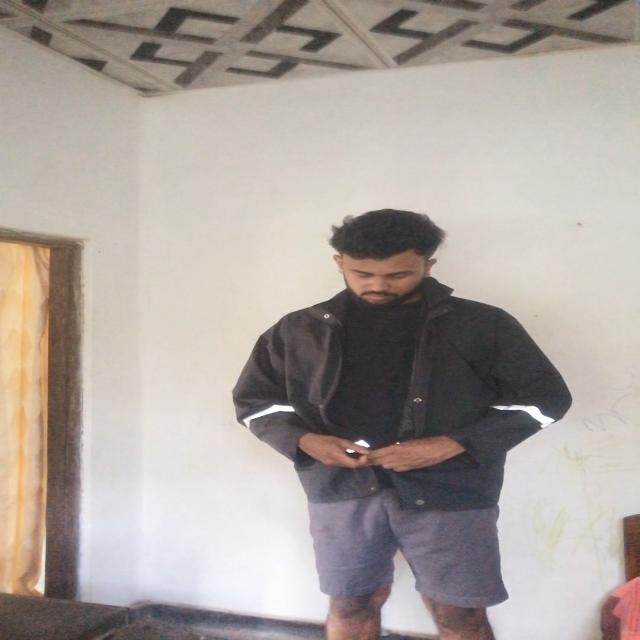Jacket_Wearer: (205, 288, 579, 511)
